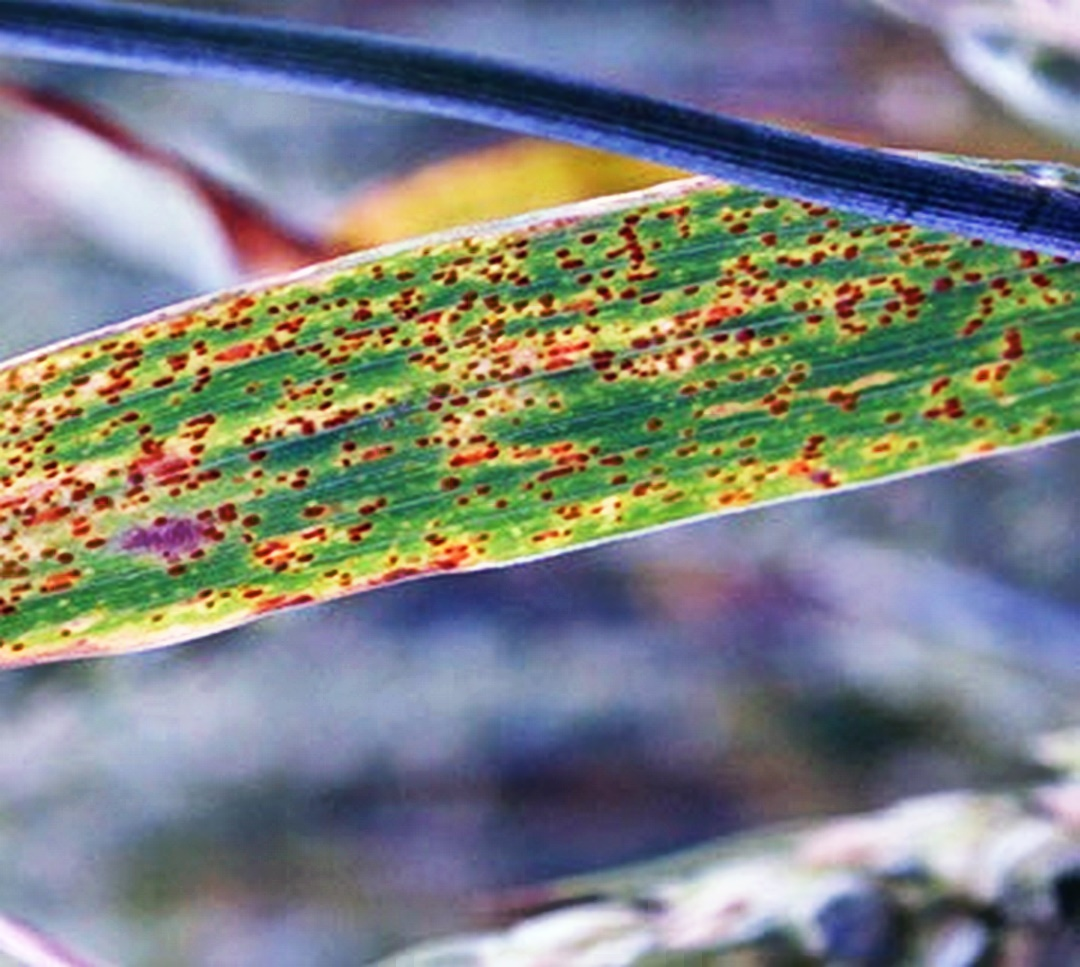Leaf Rust: (18, 205, 886, 648)
